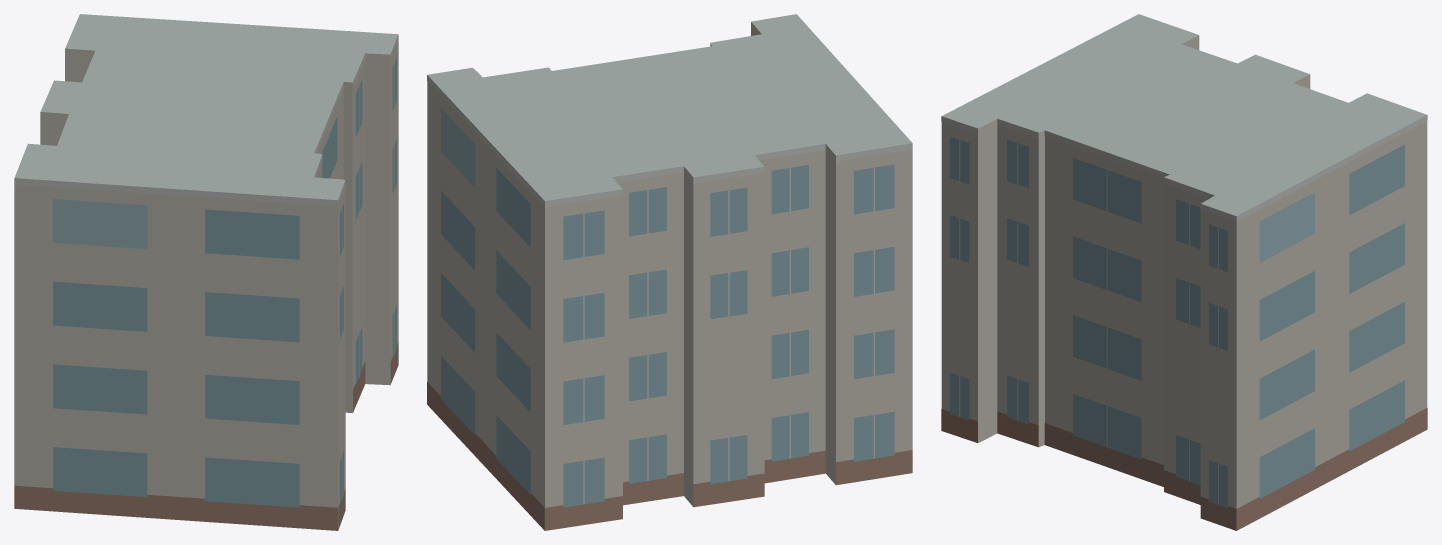
File: survey-upis-32708685.glb
3 renders of one model, left to right at view 1: azimuth 30°, elevation 25°; view 2: azimuth 150°, elevation 25°; view 3: azimuth 270°, elevation 25°, orthographic. The views are drawn at different scales.
Parts seen in each view (by area): view 1: survey-upis-32708685.tmp; view 2: survey-upis-32708685.tmp; view 3: survey-upis-32708685.tmp.
Boxes of the visible parts, x1,y1,x2,y2 form: survey-upis-32708685.tmp: [14, 14, 398, 530]; survey-upis-32708685.tmp: [427, 14, 912, 530]; survey-upis-32708685.tmp: [941, 14, 1427, 530].
Size of the model in its own units: 18.17 by 13.18 by 18.46.
